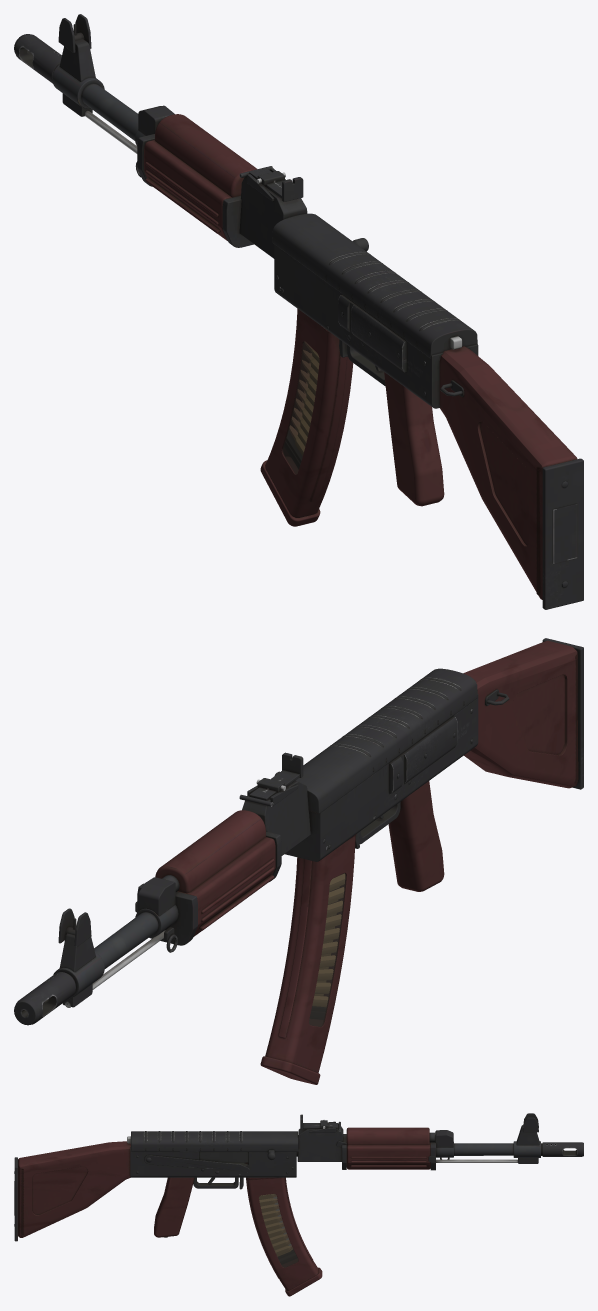
3 renders of one model, top to bottom at view 1: azimuth 30°, elevation 25°; view 2: azimuth 150°, elevation 25°; view 3: azimuth 270°, elevation 25°, orthographic. The views are drawn at different scales.
Parts seen in each view (by area): view 1: body, magbody, magwindow; view 2: body, magbody, magwindow; view 3: body, magbody, magwindow, charging.
Boxes of the visible parts, box(x1,y1,x2,y2) form: body: box(14, 14, 583, 609); magbody: box(260, 308, 353, 526); magwindow: box(282, 341, 319, 474); body: box(14, 638, 583, 1025); magbody: box(260, 834, 356, 1084); magwindow: box(309, 873, 345, 1026); body: box(14, 1113, 583, 1241); magbody: box(246, 1162, 322, 1296); magwindow: box(259, 1194, 298, 1267); charging: box(199, 1150, 275, 1162).
Size of the model in its own units: 0.0791 by 0.3248 by 0.942.
2 materials, 1 textured.
